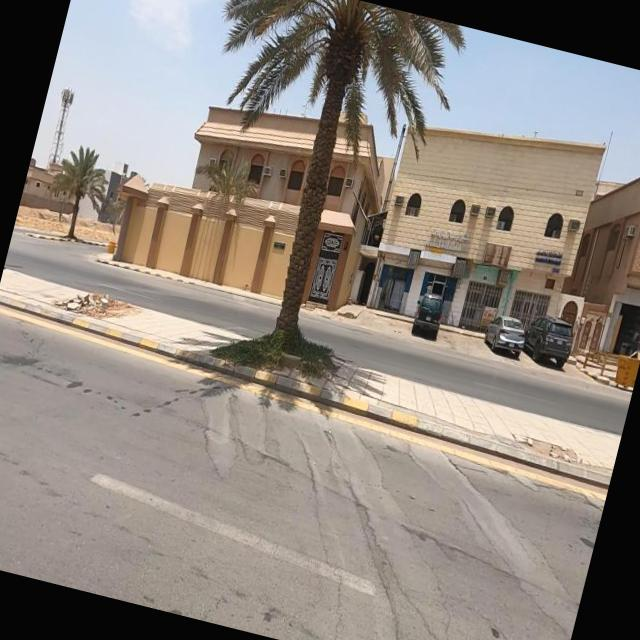debris: (439, 204, 548, 301), (42, 267, 127, 347)
